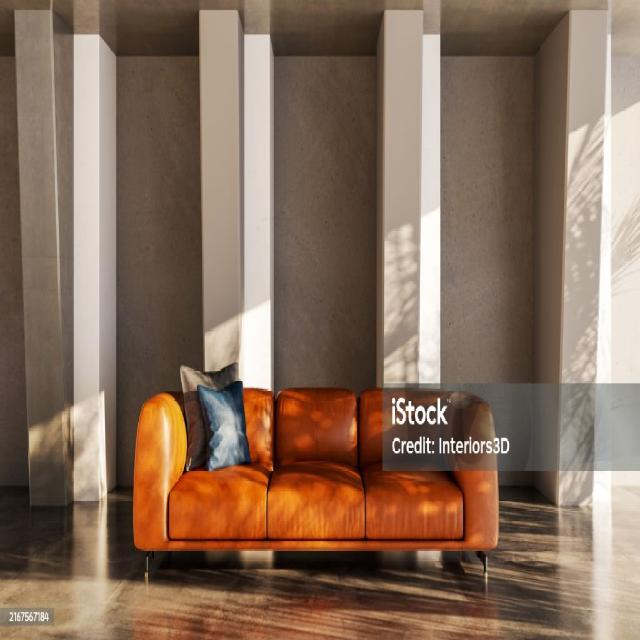back_cushion: (244, 388, 497, 500), (134, 393, 186, 549)
left_arm: (449, 446, 498, 548), (452, 393, 494, 447)
legs: (475, 550, 488, 580), (144, 550, 155, 582)
right_arm: (133, 393, 186, 549)
seat_cushion: (167, 461, 470, 546)
stallion-sofa: (134, 379, 508, 566)
